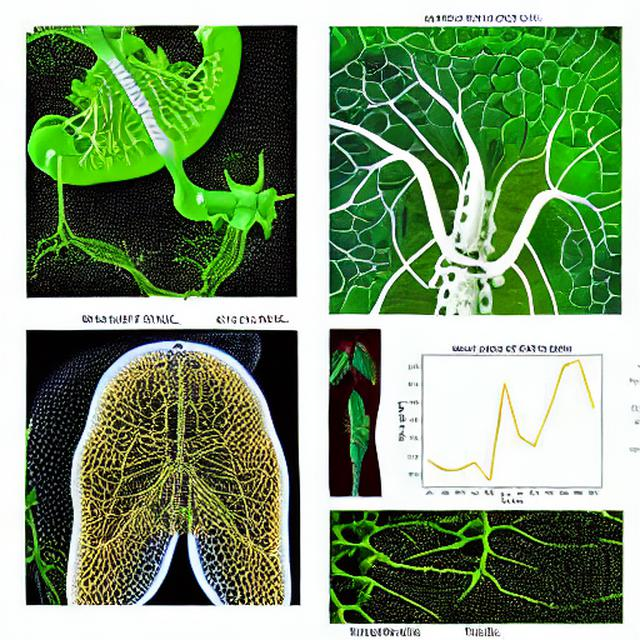Graph: (393, 333, 625, 507)
